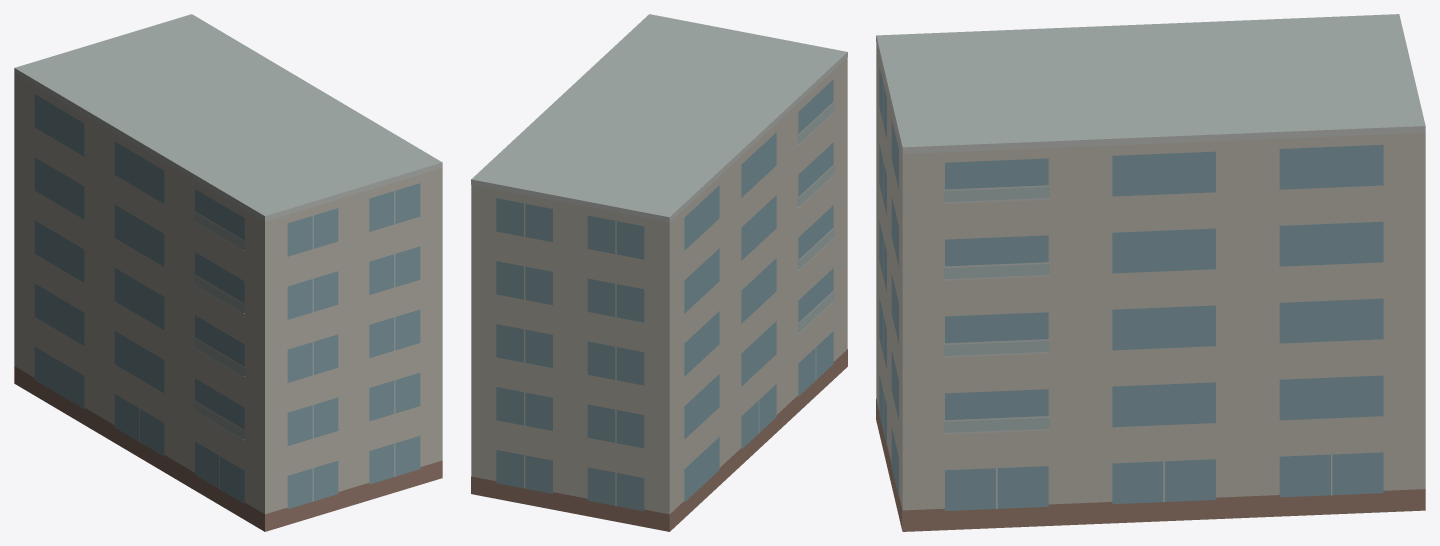
Rendered from survey-upis-32612175.glb.
3 renders of one model, left to right at view 1: azimuth 30°, elevation 25°; view 2: azimuth 150°, elevation 25°; view 3: azimuth 270°, elevation 25°, orthographic. The views are drawn at different scales.
Parts seen in each view (by area): view 1: survey-upis-32612175.tmp; view 2: survey-upis-32612175.tmp; view 3: survey-upis-32612175.tmp.
Boxes of the visible parts, x1,y1,x2,y2 form: survey-upis-32612175.tmp: (14,14,442,531); survey-upis-32612175.tmp: (471,14,847,531); survey-upis-32612175.tmp: (876,14,1425,531).
Size of the model in its own units: 10.57 by 14.2 by 18.4.
